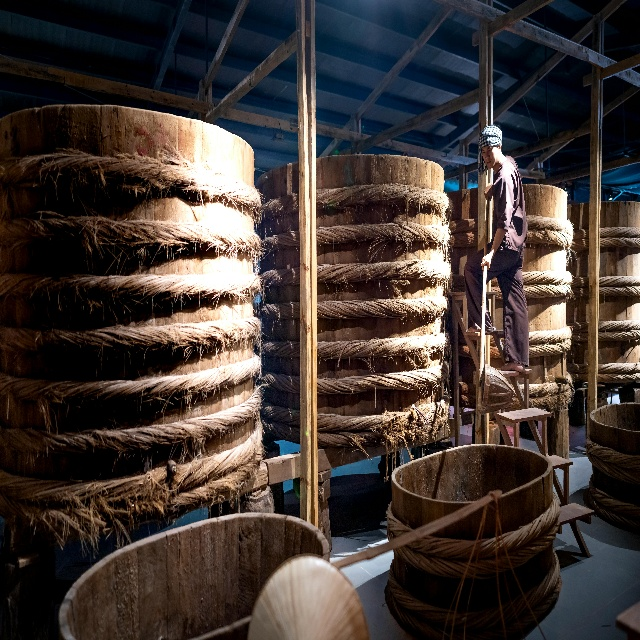Sin_guantes: (481, 252, 492, 271), (484, 183, 493, 201)
